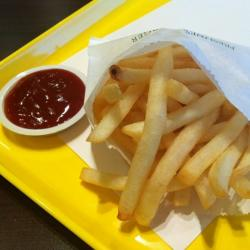fries: (112, 65, 241, 199)
ketchup: (3, 66, 85, 134)
